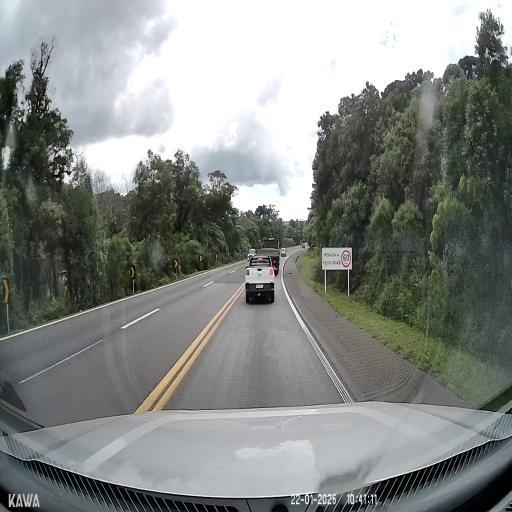R-19: (341, 250, 351, 268)
